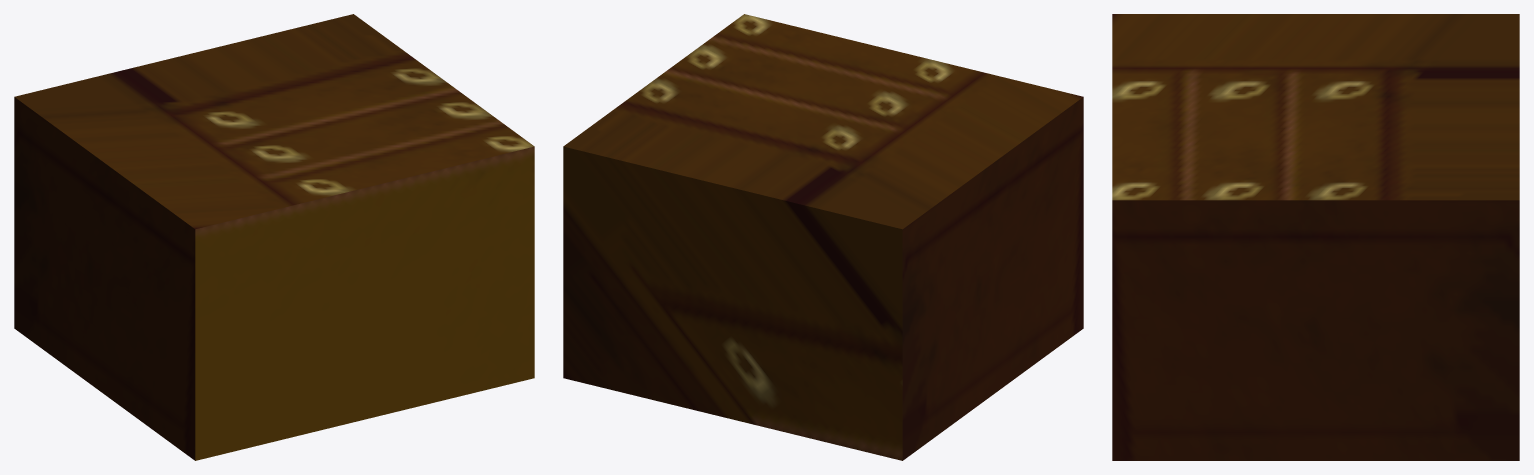
The model's file is pz_house_drawers_oak.obj.
The picture shows the model from 3 angles, left to right: view 1: azimuth 30°, elevation 25°; view 2: azimuth 150°, elevation 25°; view 3: azimuth 270°, elevation 25°; orthographic projection. The views are drawn at different scales.
Parts seen in each view (by area): view 1: pz_house_drawers_oak_|_1_corpo_gavetas; view 2: pz_house_drawers_oak_|_1_corpo_gavetas; view 3: pz_house_drawers_oak_|_1_corpo_gavetas.
Part boxes in pixels (x1,y1,x2,y2): pz_house_drawers_oak_|_1_corpo_gavetas: [14, 14, 534, 460]; pz_house_drawers_oak_|_1_corpo_gavetas: [563, 14, 1083, 460]; pz_house_drawers_oak_|_1_corpo_gavetas: [1112, 14, 1519, 460].
Bounding box in the file's own units: 0.92 × 0.6 × 0.85.
1 material, 1 textured.
